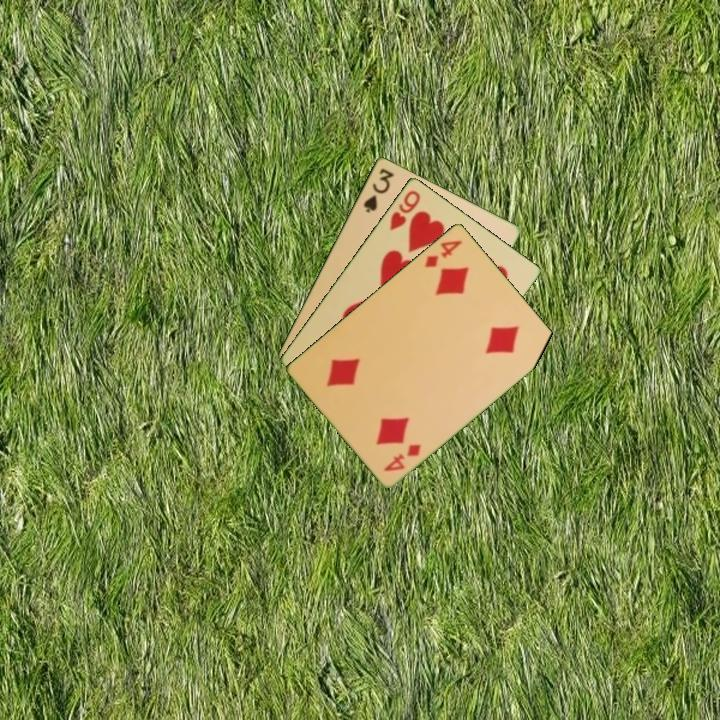3s: (360, 164, 397, 215)
4d: (421, 236, 465, 270), (380, 440, 424, 474)
9h: (386, 186, 423, 233)
